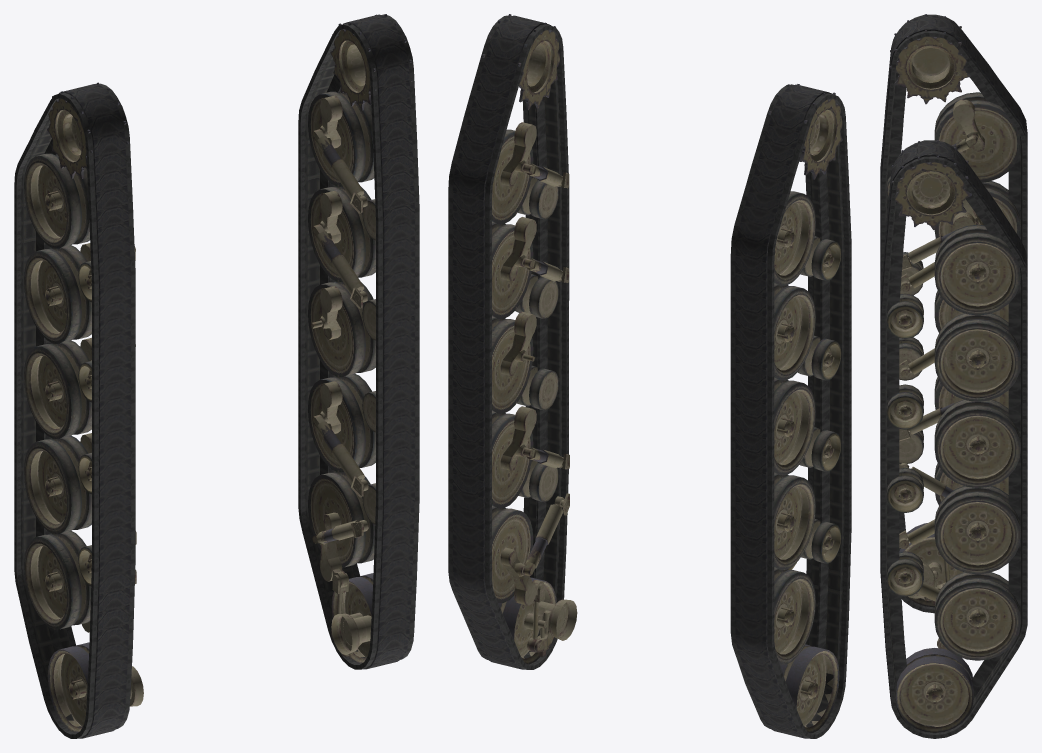
File: Chassis.glb
The picture shows the model from 3 angles, left to right: view 1: azimuth 30°, elevation 25°; view 2: azimuth 150°, elevation 25°; view 3: azimuth 270°, elevation 25°; orthographic projection. The views are drawn at different scales.
Parts seen in each view (by area): view 1: set_0_group_0, set_1_group_0, set_2_group_0, set_3_group_0; view 2: set_0_group_0, set_1_group_0, set_3_group_0, set_2_group_0; view 3: set_3_group_0, set_1_group_0, set_2_group_0, set_0_group_0.
Boxes of the visible parts, left/top/right/bottom form: set_0_group_0: left=14, top=83, right=135, bottom=738; set_1_group_0: left=298, top=14, right=419, bottom=669; set_2_group_0: left=24, top=82, right=143, bottom=733; set_3_group_0: left=308, top=14, right=412, bottom=663; set_0_group_0: left=730, top=84, right=851, bottom=738; set_1_group_0: left=448, top=15, right=569, bottom=669; set_3_group_0: left=482, top=14, right=577, bottom=664; set_2_group_0: left=763, top=84, right=842, bottom=732; set_3_group_0: left=887, top=140, right=1020, bottom=732; set_1_group_0: left=880, top=140, right=1027, bottom=738; set_2_group_0: left=887, top=14, right=1020, bottom=607; set_0_group_0: left=880, top=14, right=1027, bottom=613.
Size of the model in its own units: 2.79 by 5.27 by 1.21.
Materials: 4 (4 with a texture image).
